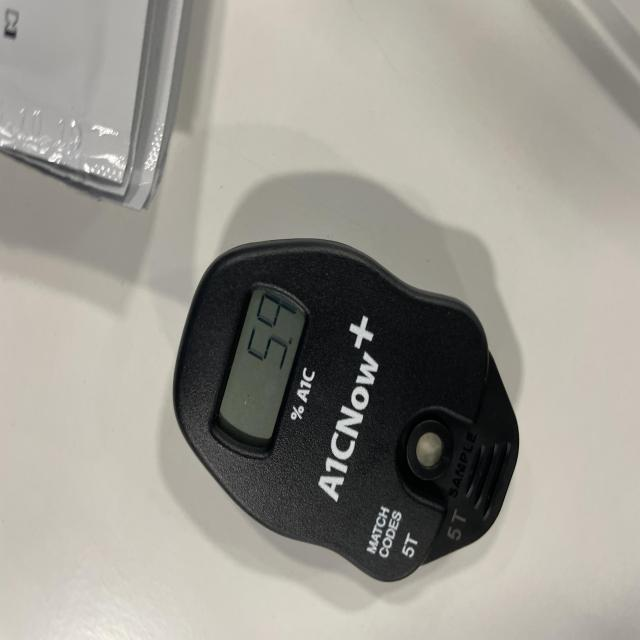hba1c: (172, 240, 520, 586)
